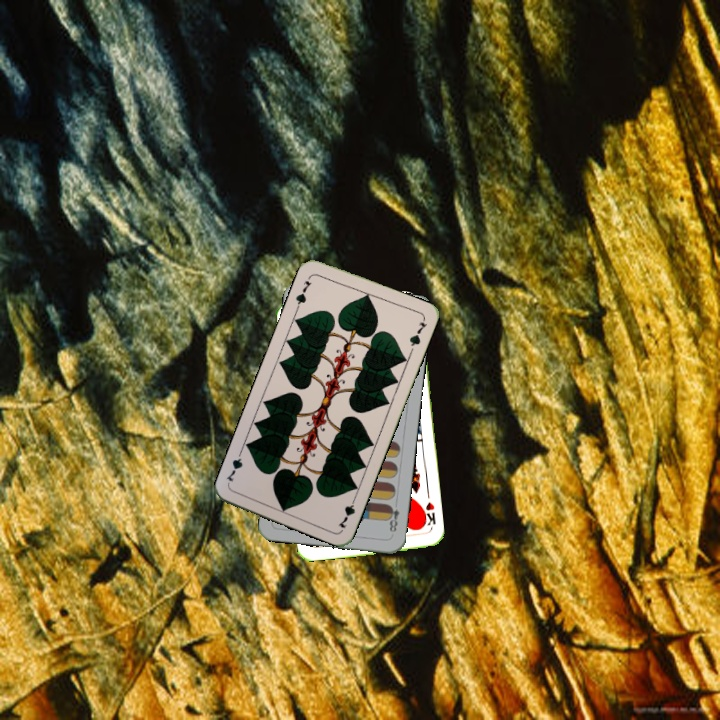E8: (383, 497, 402, 535)
G7: (334, 492, 359, 531), (291, 277, 314, 311)
HK: (418, 498, 438, 533)
